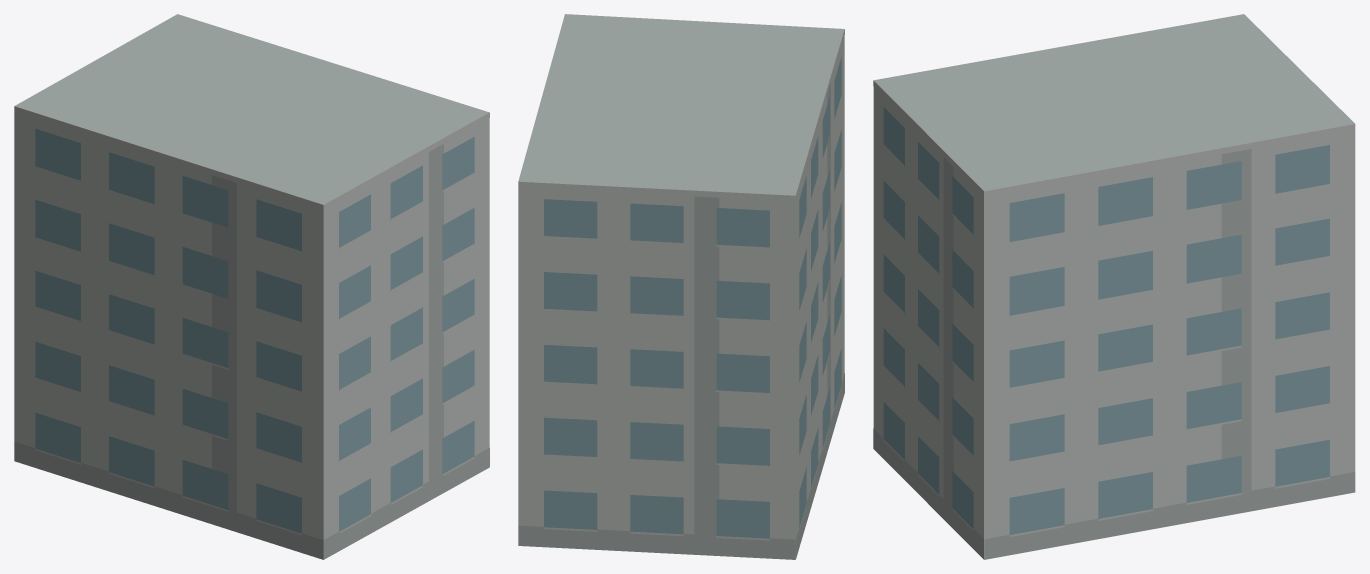
File: survey-upis-32993359.glb
The picture shows the model from 3 angles, left to right: view 1: azimuth 30°, elevation 25°; view 2: azimuth 150°, elevation 25°; view 3: azimuth 270°, elevation 25°; orthographic projection. The views are drawn at different scales.
Parts seen in each view (by area): view 1: survey-upis-32993359.tmp; view 2: survey-upis-32993359.tmp; view 3: survey-upis-32993359.tmp.
Part boxes in pixels (x1,y1,x2,y2): survey-upis-32993359.tmp: [14, 14, 489, 559]; survey-upis-32993359.tmp: [518, 14, 844, 559]; survey-upis-32993359.tmp: [873, 14, 1355, 559].
Size of the model in its own units: 15.55 by 15.05 by 17.85.
